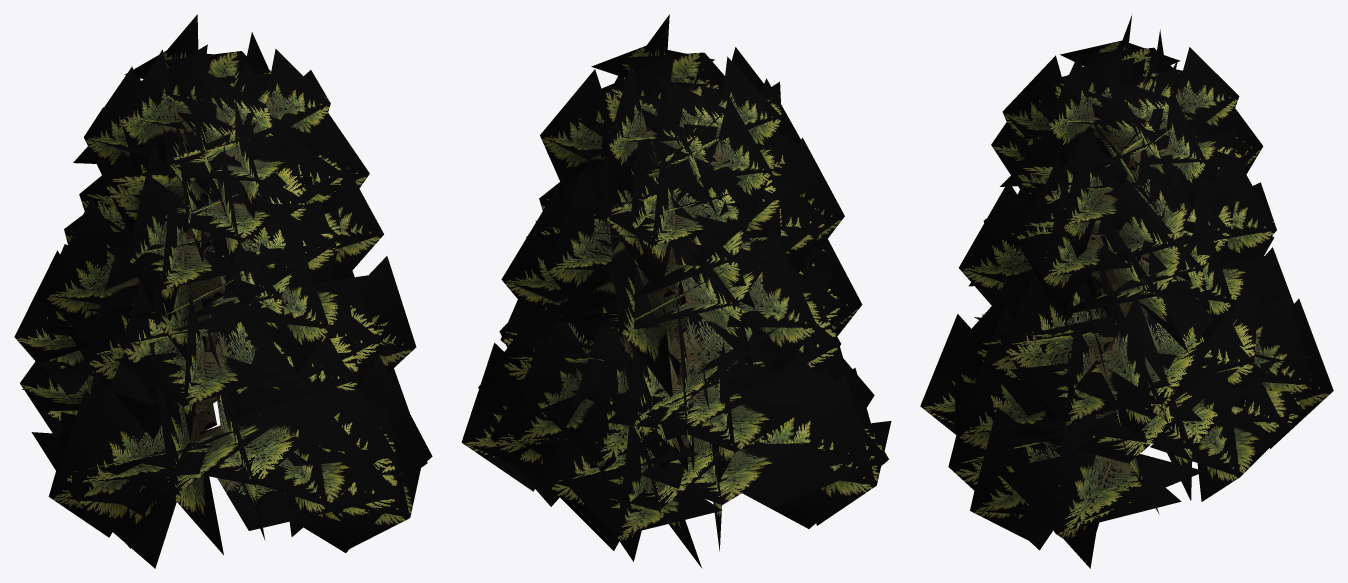
Rendered from leaves.glb.
The picture shows the model from 3 angles, left to right: view 1: azimuth 30°, elevation 25°; view 2: azimuth 150°, elevation 25°; view 3: azimuth 270°, elevation 25°; orthographic projection. The views are drawn at different scales.
Parts seen in each view (by area): view 1: leaves; view 2: leaves; view 3: leaves.
Part boxes in pixels (x1,y1,x2,y2): leaves: (14,14,432,568); leaves: (461,14,891,567); leaves: (920,14,1333,568).
Size of the model in its own units: 30.29 by 40.98 by 31.76.
Materials: 1 (1 with a texture image).
